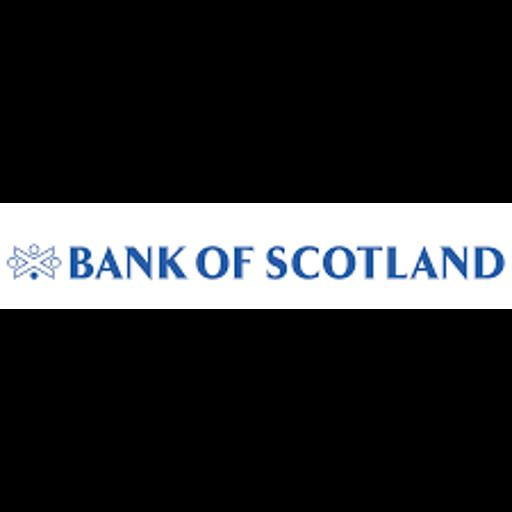Bank of Scotland: (0, 203, 512, 309)
